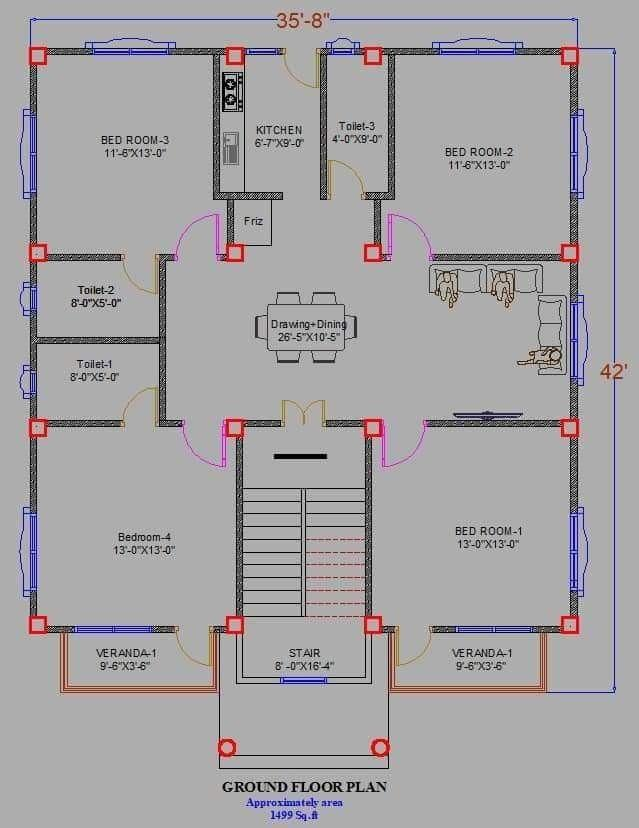Blueprint: (18, 37, 589, 644)
wall: (157, 251, 168, 428), (235, 435, 245, 619), (385, 52, 397, 203), (364, 435, 373, 617), (319, 45, 329, 201), (424, 418, 564, 429), (431, 252, 564, 263), (212, 52, 221, 201), (35, 335, 163, 345), (569, 434, 580, 516), (45, 419, 125, 429), (212, 191, 285, 201), (29, 436, 38, 515), (379, 45, 443, 56), (29, 308, 39, 374), (569, 191, 581, 245), (45, 254, 123, 262), (567, 259, 580, 304), (569, 63, 580, 116), (29, 62, 39, 117), (372, 198, 383, 246), (513, 46, 565, 56), (45, 47, 95, 56), (362, 189, 399, 201), (166, 48, 228, 55), (226, 198, 235, 246), (569, 376, 579, 419), (242, 418, 283, 428), (325, 418, 366, 428), (30, 191, 37, 247), (530, 624, 563, 634), (45, 624, 77, 634), (29, 588, 39, 618), (149, 624, 178, 634), (569, 589, 579, 618), (29, 260, 38, 290), (29, 392, 38, 420), (431, 625, 457, 634), (165, 419, 184, 429), (211, 624, 229, 634), (380, 623, 396, 634), (215, 252, 229, 263)
